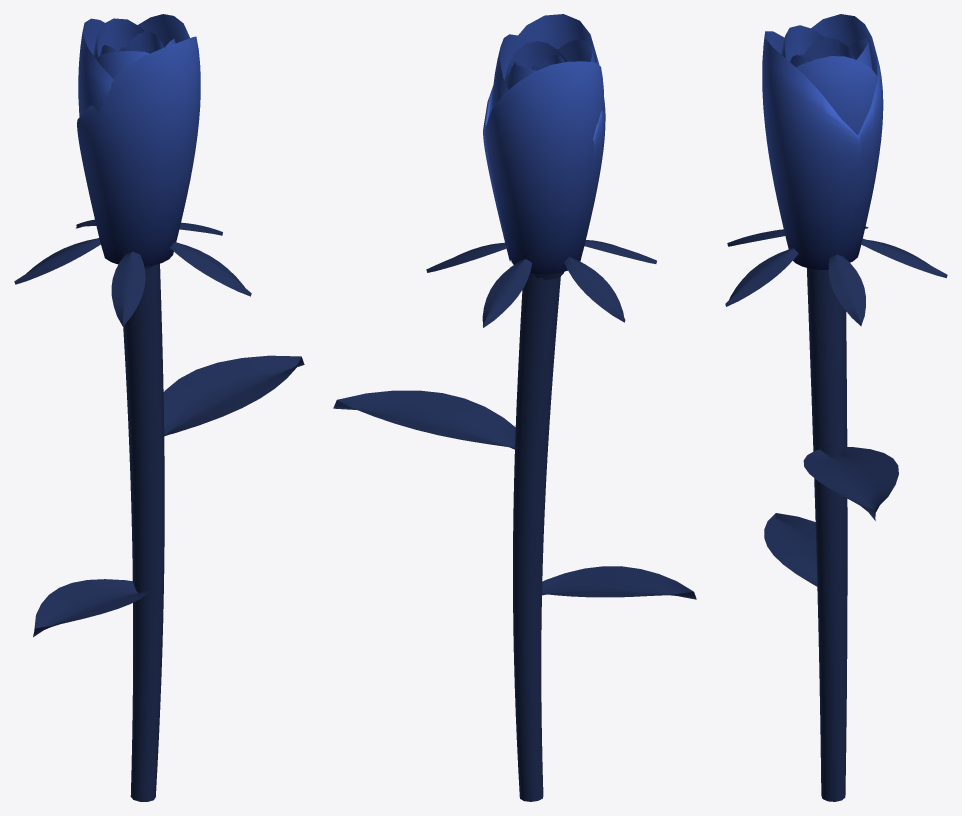
The model's file is rosa.glb.
The picture shows the model from 3 angles, left to right: view 1: azimuth 30°, elevation 25°; view 2: azimuth 150°, elevation 25°; view 3: azimuth 270°, elevation 25°; orthographic projection. The views are drawn at different scales.
Parts seen in each view (by area): view 1: Tallo, Rosa; view 2: Tallo, Rosa; view 3: Tallo, Rosa.
Boxes of the visible parts, box(x1,y1,x2,y2) form: Tallo: box(14, 219, 304, 801); Rosa: box(77, 14, 200, 266); Tallo: box(333, 240, 696, 801); Rosa: box(483, 14, 605, 274); Tallo: box(725, 226, 947, 801); Rosa: box(762, 14, 883, 269).
Size of the model in its own units: 1.34 by 3.09 by 0.8194.
